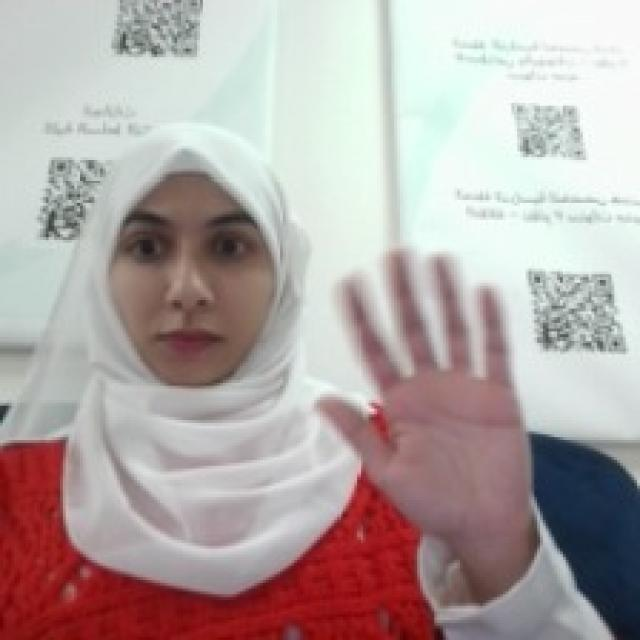Hello: (308, 228, 532, 528)
